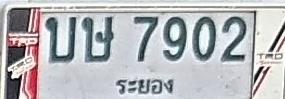0: (192, 16, 216, 61)
2: (221, 16, 246, 62)
7: (133, 16, 158, 62)
9: (162, 16, 186, 61)
A26: (45, 16, 77, 63)
A39: (82, 15, 115, 62)
RYG: (109, 73, 177, 96)
